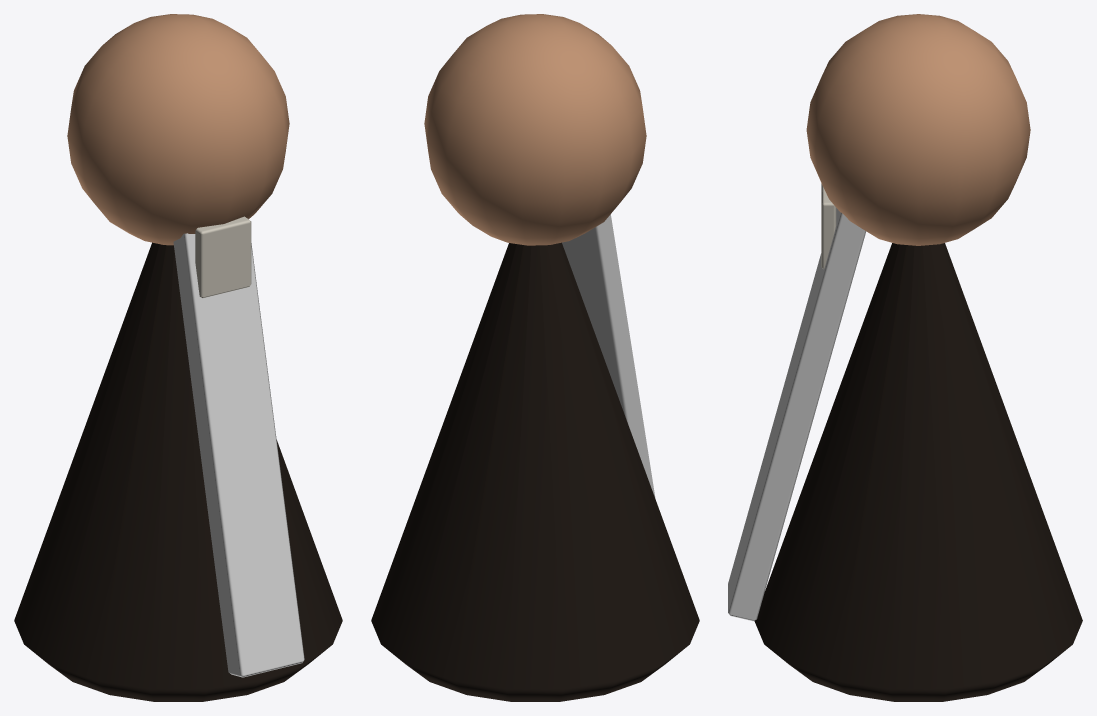
The model's file is priest.5ce89976.glb.
3 views of the same model, side by side, from view 1: azimuth 30°, elevation 25°; view 2: azimuth 150°, elevation 25°; view 3: azimuth 270°, elevation 25° (orthographic).
Parts seen in each view (by area): view 1: body, accent; view 2: body, accent; view 3: body, accent.
Part boxes in pixels (left/top/right/bottom): body: left=14, top=14, right=342, bottom=701; accent: left=173, top=218, right=304, bottom=677; body: left=371, top=14, right=699, bottom=701; accent: left=562, top=214, right=655, bottom=498; body: left=754, top=14, right=1082, bottom=701; accent: left=728, top=208, right=866, bottom=621.
Size of the model in its own units: 0.4333 by 0.9175 by 0.4751.
